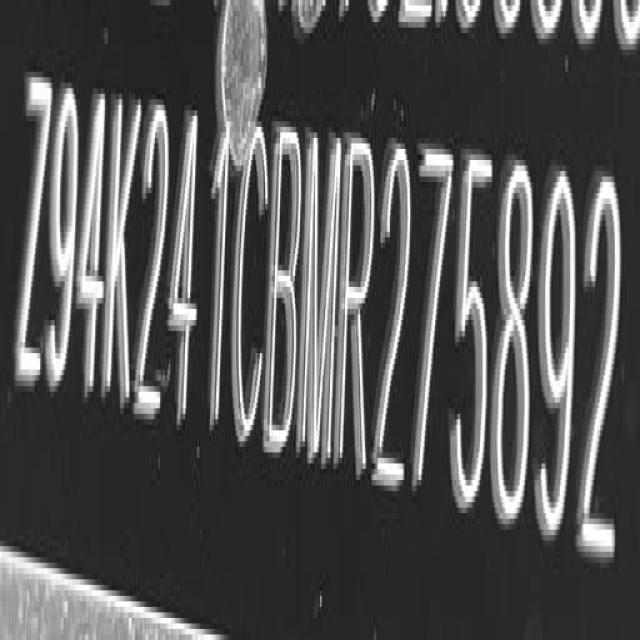1: (208, 120, 230, 441)
2: (584, 176, 624, 568), (380, 140, 415, 494), (136, 98, 168, 427)
4: (77, 85, 111, 405), (171, 113, 205, 431)
5: (452, 145, 489, 518)
7: (417, 138, 453, 504)
8: (497, 159, 535, 531)
9: (539, 167, 578, 553), (49, 81, 79, 402)
B: (270, 118, 304, 460)
C: (230, 119, 263, 454)
K: (109, 94, 140, 417)
M: (300, 125, 342, 484)
R: (338, 132, 378, 486)
Z: (13, 70, 51, 398)
